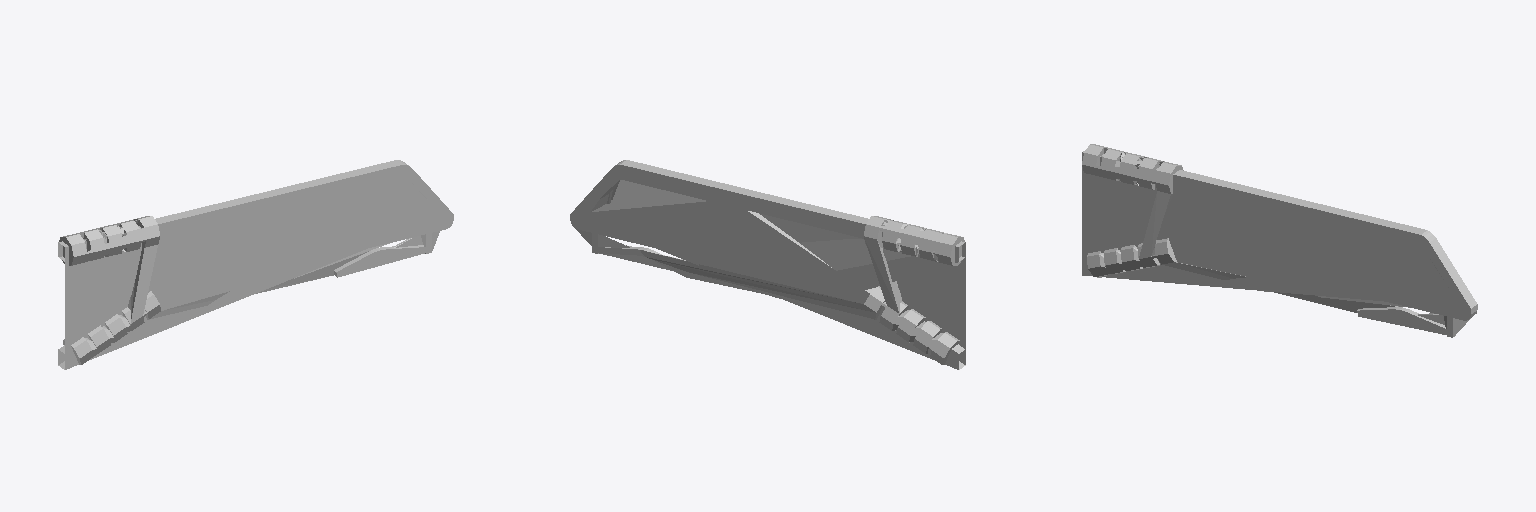
The model's file is ohl_support_1_push.obj.
3 views of the same model, side by side, from view 1: azimuth 30°, elevation 25°; view 2: azimuth 150°, elevation 25°; view 3: azimuth 330°, elevation 25° (orthographic).
Visible parts, largest first — view 1: insulator, main_frame_pull, pole.001, insulator.001, insulator.003, lower_hoop.003, lower_hoop; view 2: insulator, main_frame_pull, insulator.003, insulator.001, pole.001, lower_hoop.003, lower_hoop; view 3: insulator, main_frame_pull, pole.001, insulator.003, insulator.001, lower_hoop.003, lower_hoop.
Boxes of the visible parts, x1,y1,x2,y2 form: insulator: [58, 165, 452, 369]; main_frame_pull: [58, 160, 453, 369]; pole.001: [59, 216, 159, 265]; insulator.001: [71, 245, 157, 362]; insulator.003: [63, 291, 160, 364]; lower_hoop.003: [63, 219, 159, 265]; lower_hoop: [334, 233, 431, 277]; insulator: [571, 165, 965, 369]; main_frame_pull: [570, 160, 965, 369]; insulator.003: [864, 286, 959, 364]; insulator.001: [864, 236, 958, 355]; pole.001: [864, 216, 964, 265]; lower_hoop.003: [866, 219, 956, 265]; lower_hoop: [592, 233, 687, 276]; insulator: [1082, 153, 1470, 336]; main_frame_pull: [1082, 150, 1477, 320]; pole.001: [1082, 145, 1183, 193]; insulator.003: [1087, 238, 1176, 277]; insulator.001: [1094, 191, 1172, 275]; lower_hoop.003: [1082, 144, 1177, 185]; lower_hoop: [1357, 307, 1455, 337].
Bounding box in the file's own units: 4.25 × 1.36 × 0.3.